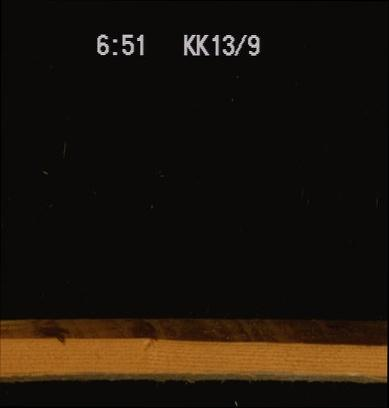wave: (0, 314, 385, 346), (2, 366, 386, 389)
